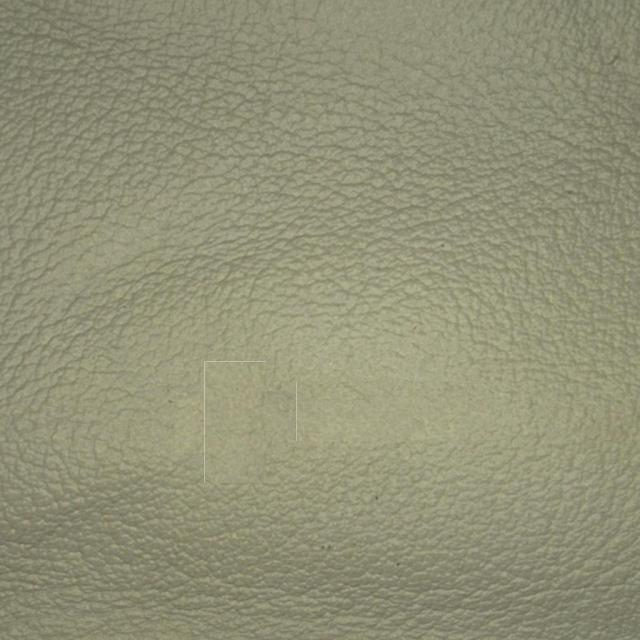Healed Injury: (183, 315, 342, 531)
